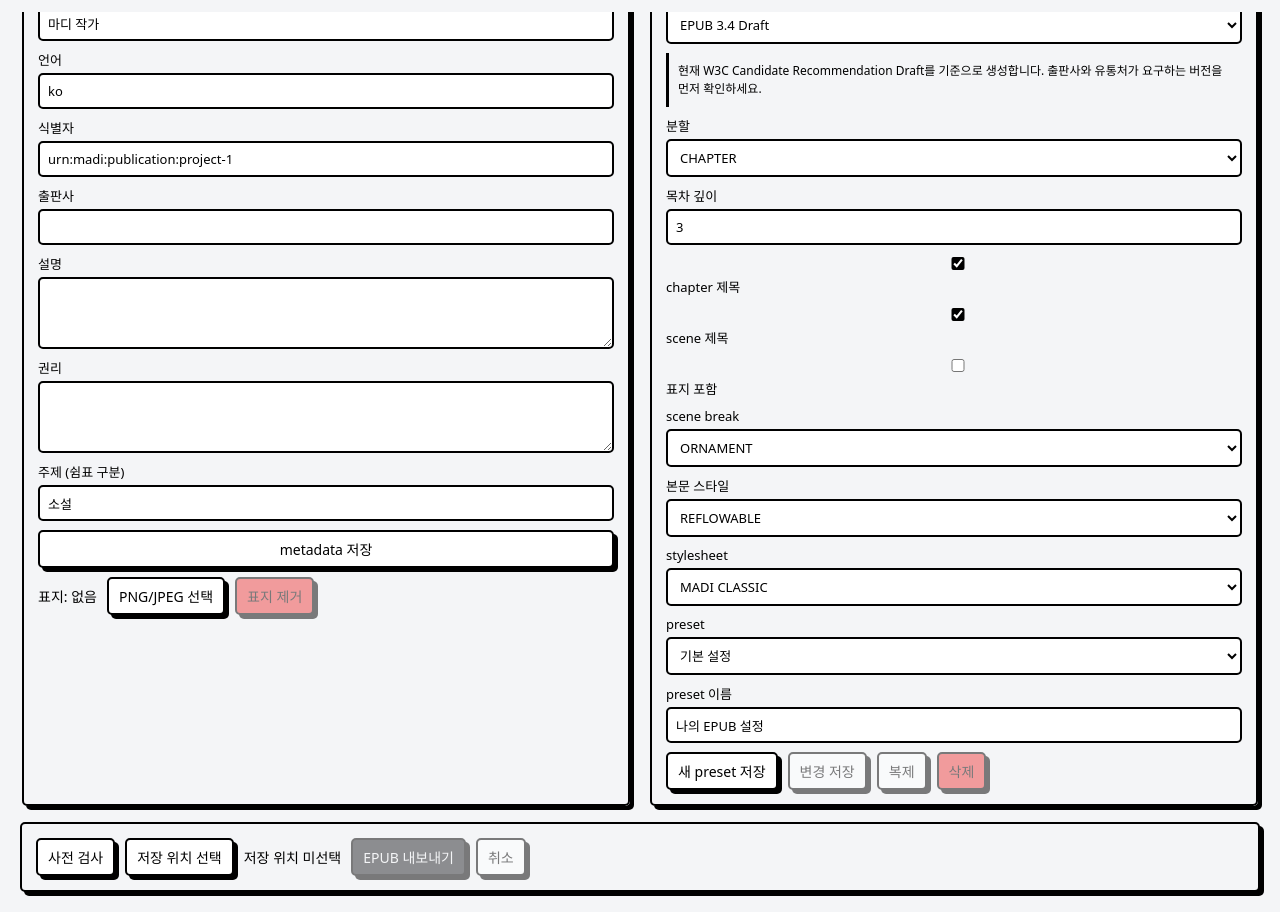
it: Phase 1G EPUB export workspace › selects and removes a validated local cover without exposing a path
(page scrolled)
Check: the text "표지: 없음" is shown, box x1=38 y1=586 x2=97 y2=606
Click the button "PNG/JPEG 선택" at (166, 596), box x1=107 y1=577 x2=225 y2=615
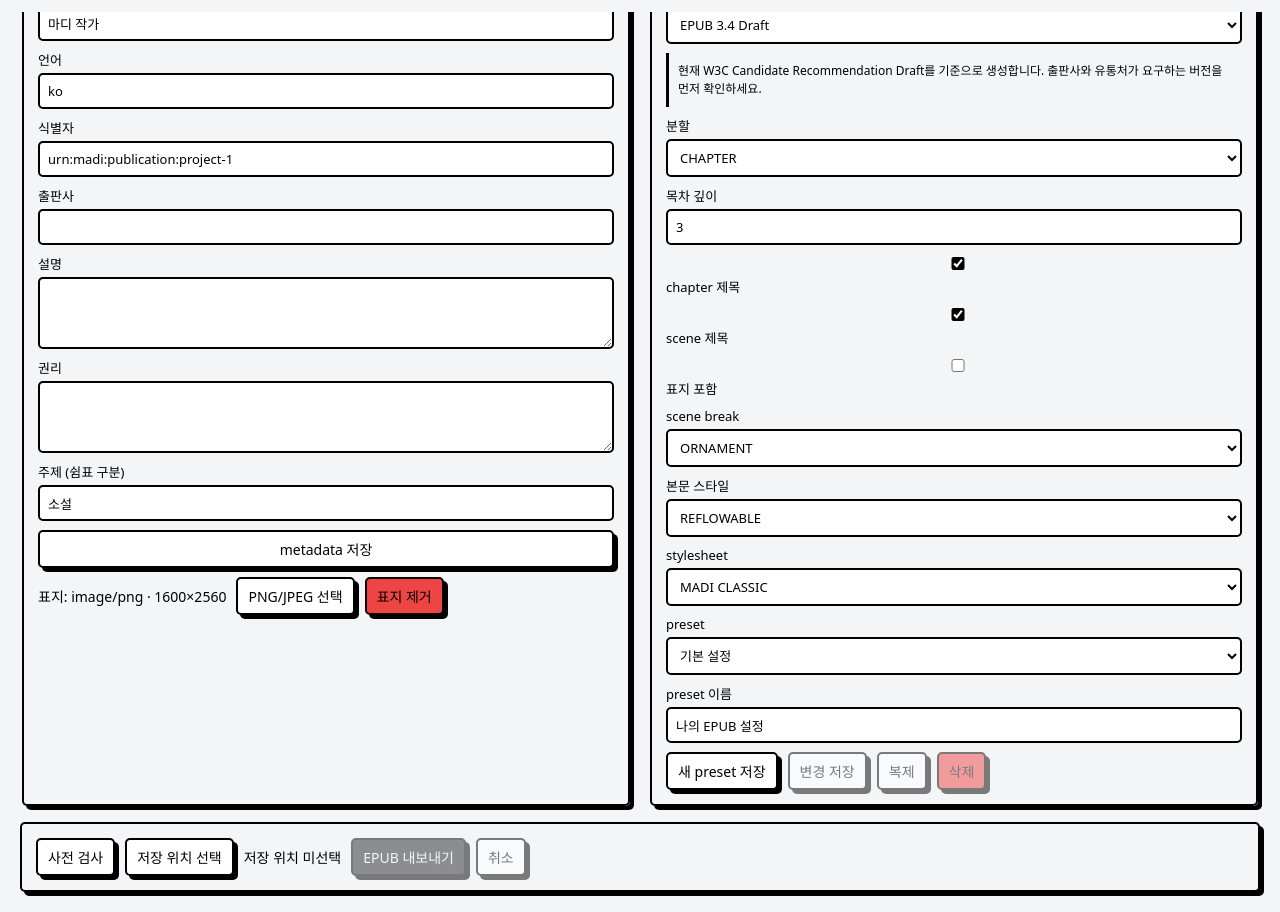
Check: the text "표지: image/png · 1600×2560" is shown, box x1=38 y1=586 x2=226 y2=606
Click the button "표지 제거" at (404, 596), box x1=365 y1=577 x2=444 y2=615
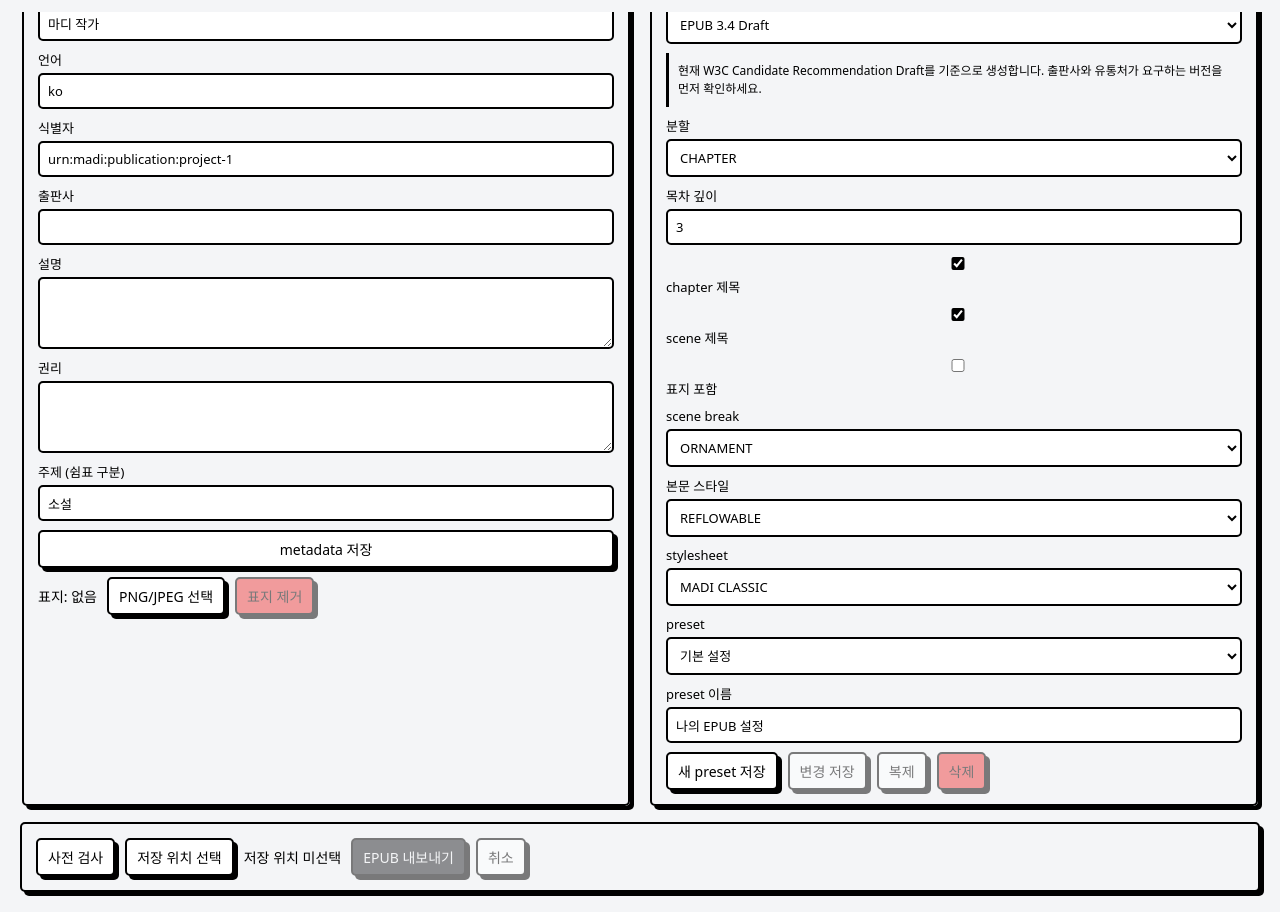
Check: the text "표지: 없음" is shown, box x1=38 y1=586 x2=97 y2=606
